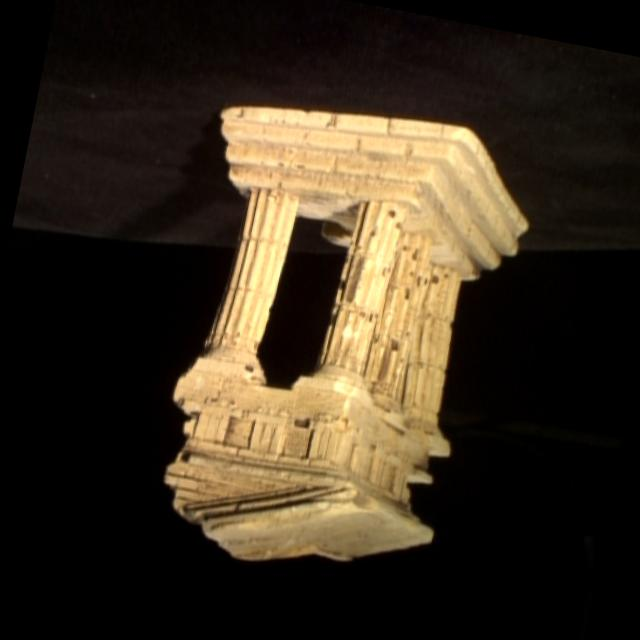Instance-Segmentation: (167, 105, 528, 559)
